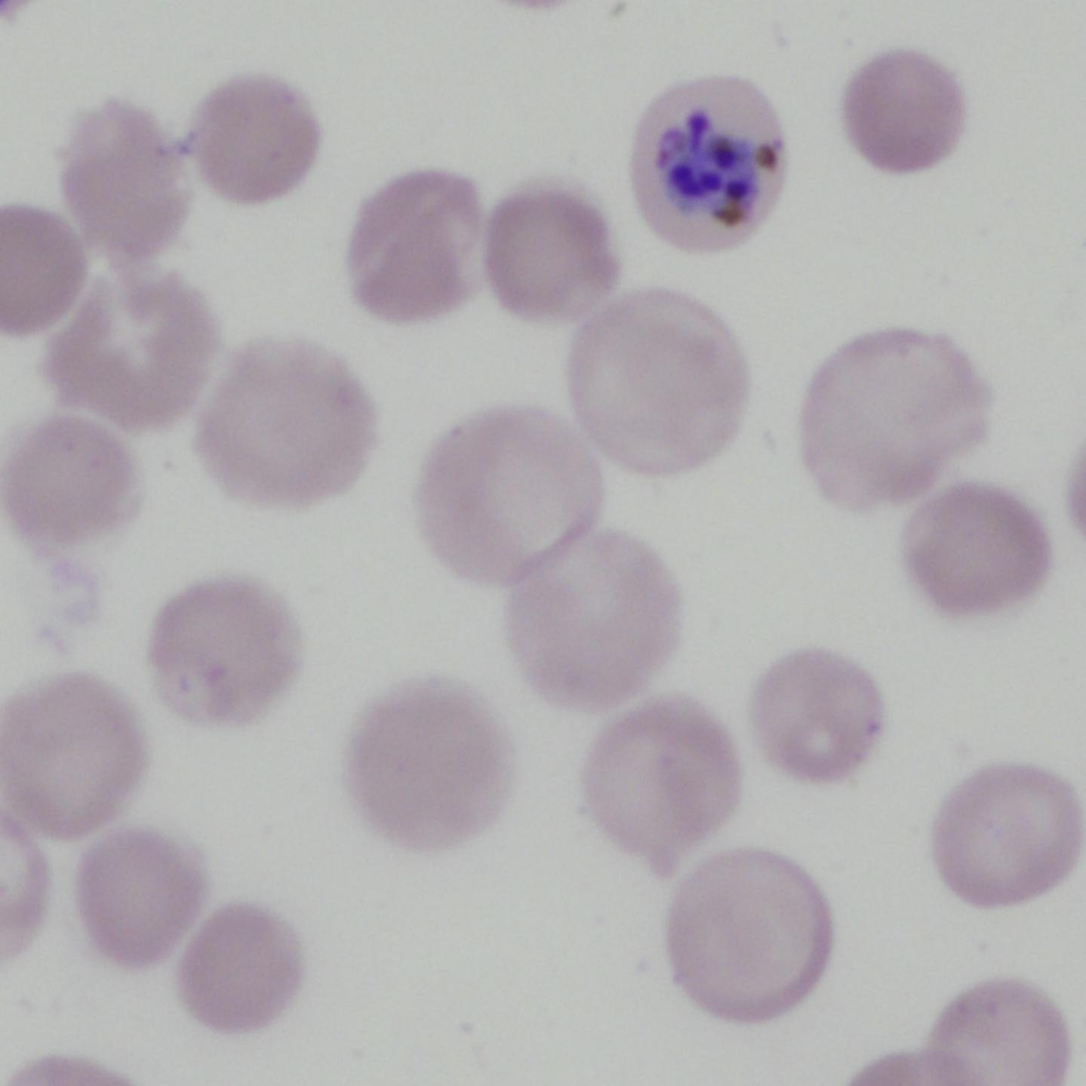Infected: (634, 71, 790, 251)
Uninfected: (412, 398, 607, 595), (800, 328, 1000, 504), (564, 285, 743, 474), (201, 328, 371, 506), (513, 529, 678, 712), (671, 836, 828, 1023), (342, 680, 513, 846), (48, 260, 213, 431), (584, 700, 741, 873), (148, 574, 299, 731), (926, 761, 1082, 910), (0, 680, 143, 836), (55, 104, 186, 266), (347, 172, 480, 318), (475, 187, 621, 320), (745, 640, 884, 779), (908, 484, 1052, 617), (75, 826, 203, 970), (0, 418, 144, 544), (194, 71, 320, 209), (843, 44, 964, 186), (171, 901, 297, 1036), (921, 974, 1070, 1086), (0, 197, 80, 335)
